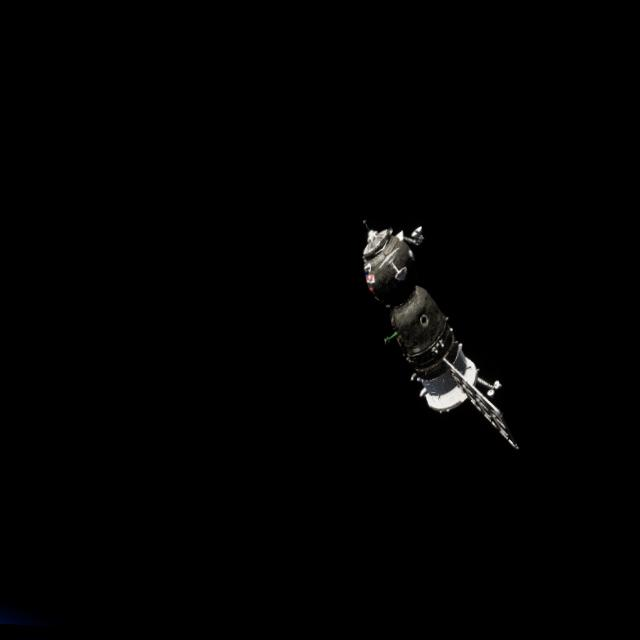Satellites revolving around earth: (349, 218, 533, 454)
